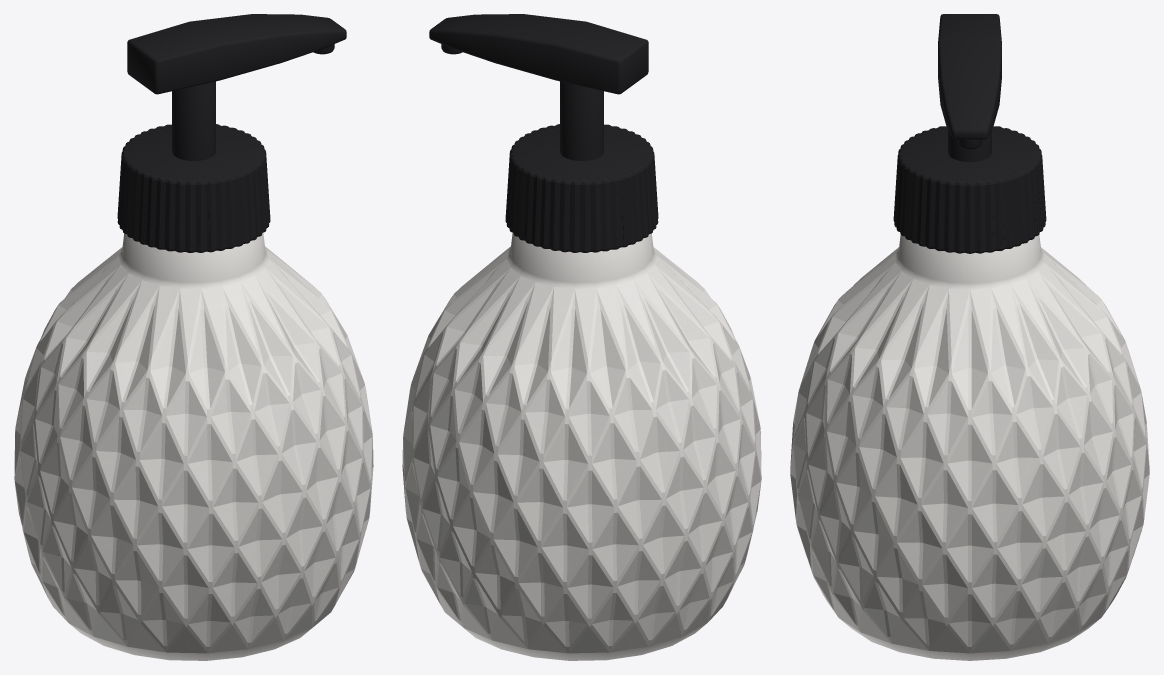
File: limex-bottle-white.glb
The picture shows the model from 3 angles, left to right: view 1: azimuth 30°, elevation 25°; view 2: azimuth 150°, elevation 25°; view 3: azimuth 270°, elevation 25°; orthographic projection.
Parts seen in each view (by area): view 1: LimexBottleWhite; view 2: LimexBottleWhite; view 3: LimexBottleWhite.
Boxes of the visible parts, bbox=[...] form: LimexBottleWhite: bbox=[14, 14, 373, 660]; LimexBottleWhite: bbox=[402, 14, 761, 660]; LimexBottleWhite: bbox=[790, 14, 1149, 660].
Bounding box in the file's own units: 0.1111 × 0.1959 × 0.1118.
Materials: 1 (1 with a texture image).
